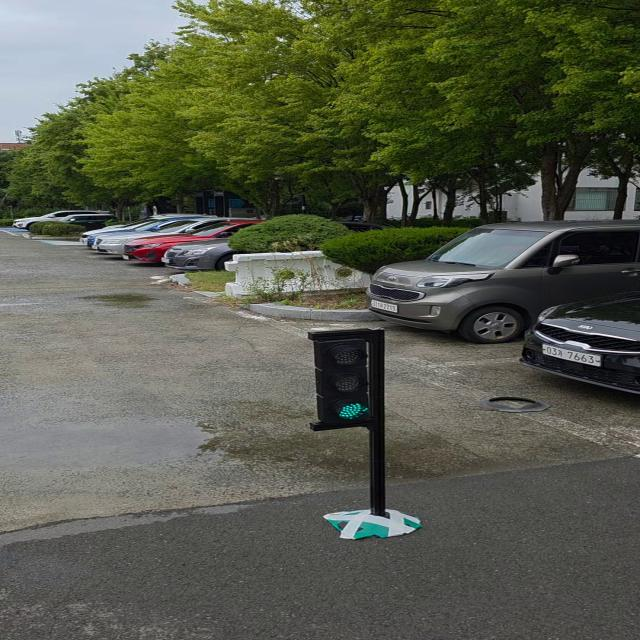green: (317, 330, 387, 424)
